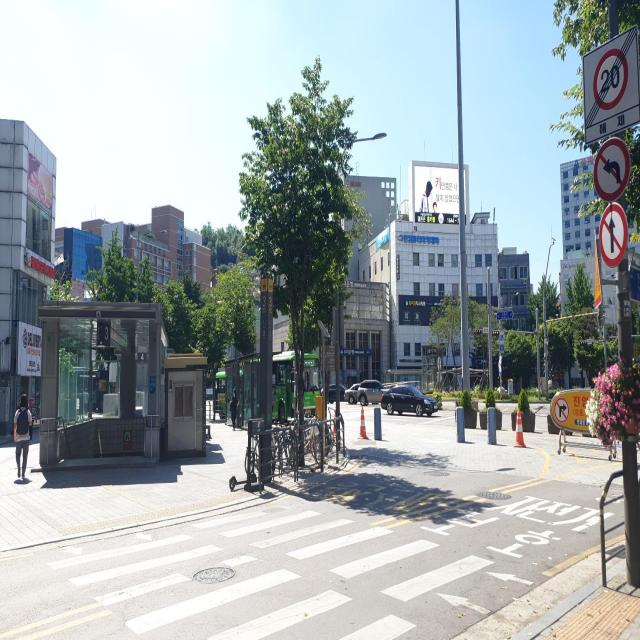횡단보도: (46, 508, 536, 640)
